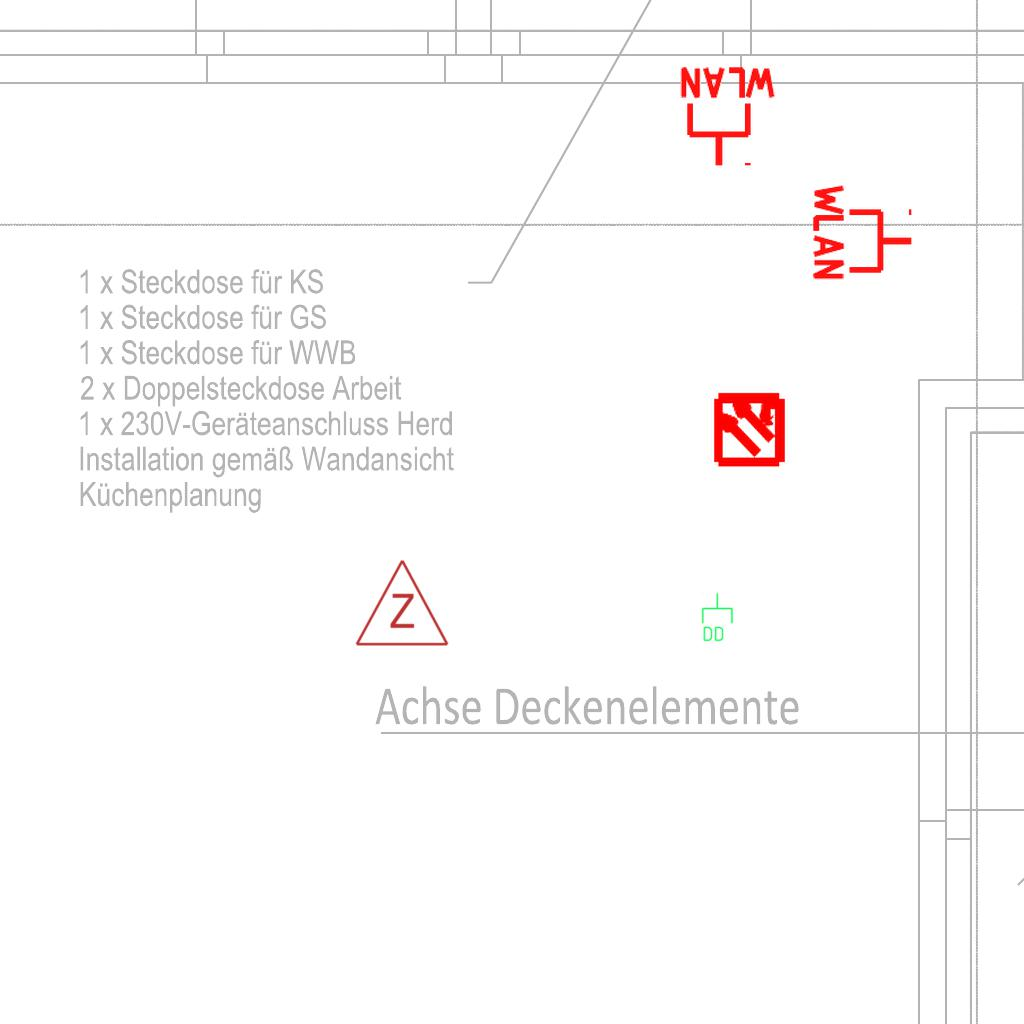Datenanschluss_zweifach: (700, 592, 734, 643)
OT_Multisensormelder_(Kombination_RMO_WMD): (693, 371, 806, 484)
WLAN: (811, 180, 916, 284), (676, 65, 780, 170)
Zimmersignalleuchte: (352, 553, 450, 653)
